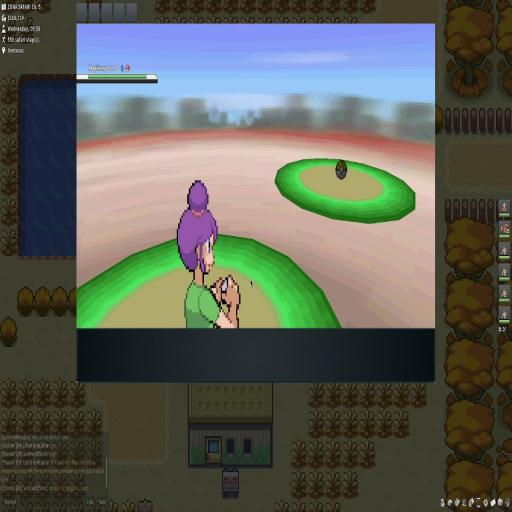SUCESSFULCAPTURE: (336, 160, 348, 180)
